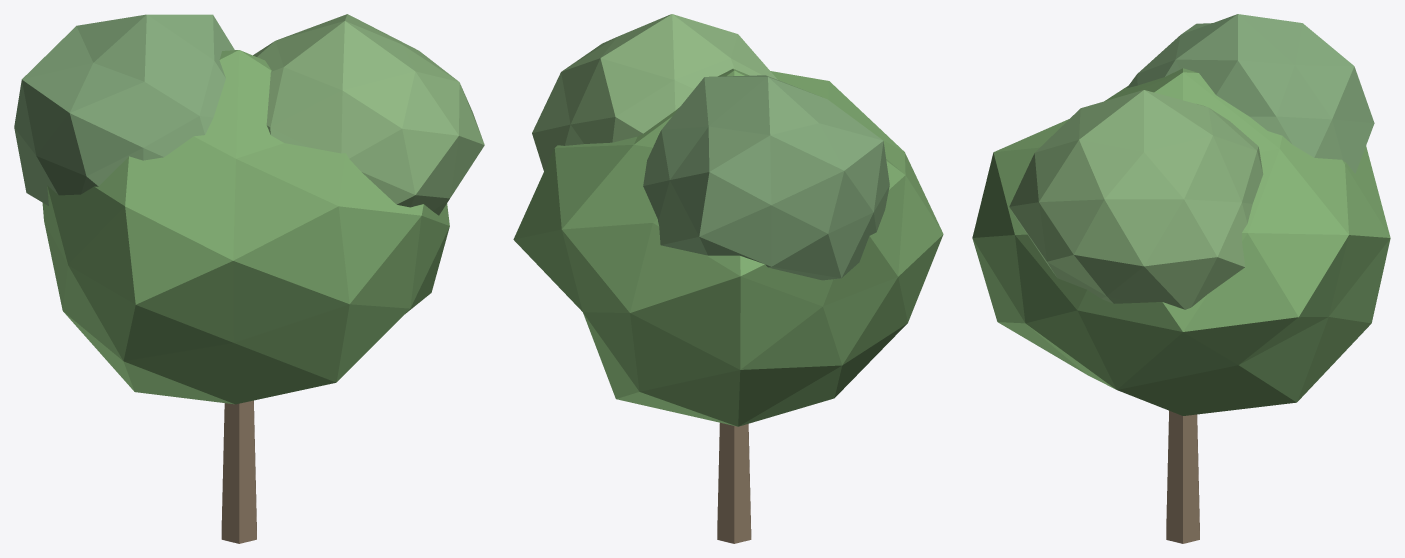
Rendered from tree_round.glb.
The picture shows the model from 3 angles, left to right: view 1: azimuth 30°, elevation 25°; view 2: azimuth 150°, elevation 25°; view 3: azimuth 270°, elevation 25°; orthographic projection. The views are drawn at different scales.
Parts seen in each view (by area): view 1: TreeRound; view 2: TreeRound; view 3: TreeRound.
Boxes of the visible parts, x1,y1,x2,y2 form: TreeRound: (14,14,484,543); TreeRound: (513,14,943,543); TreeRound: (972,14,1390,543).
Size of the model in its own units: 5.46 by 6.94 by 5.35.
